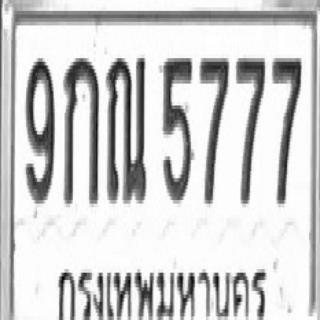A01: (63, 53, 99, 205)
A19: (106, 51, 147, 204)
N05: (161, 54, 192, 204)
N07: (235, 53, 265, 205), (271, 53, 301, 205), (199, 53, 229, 205)
N09: (24, 54, 54, 204)
P04: (53, 248, 273, 320)
